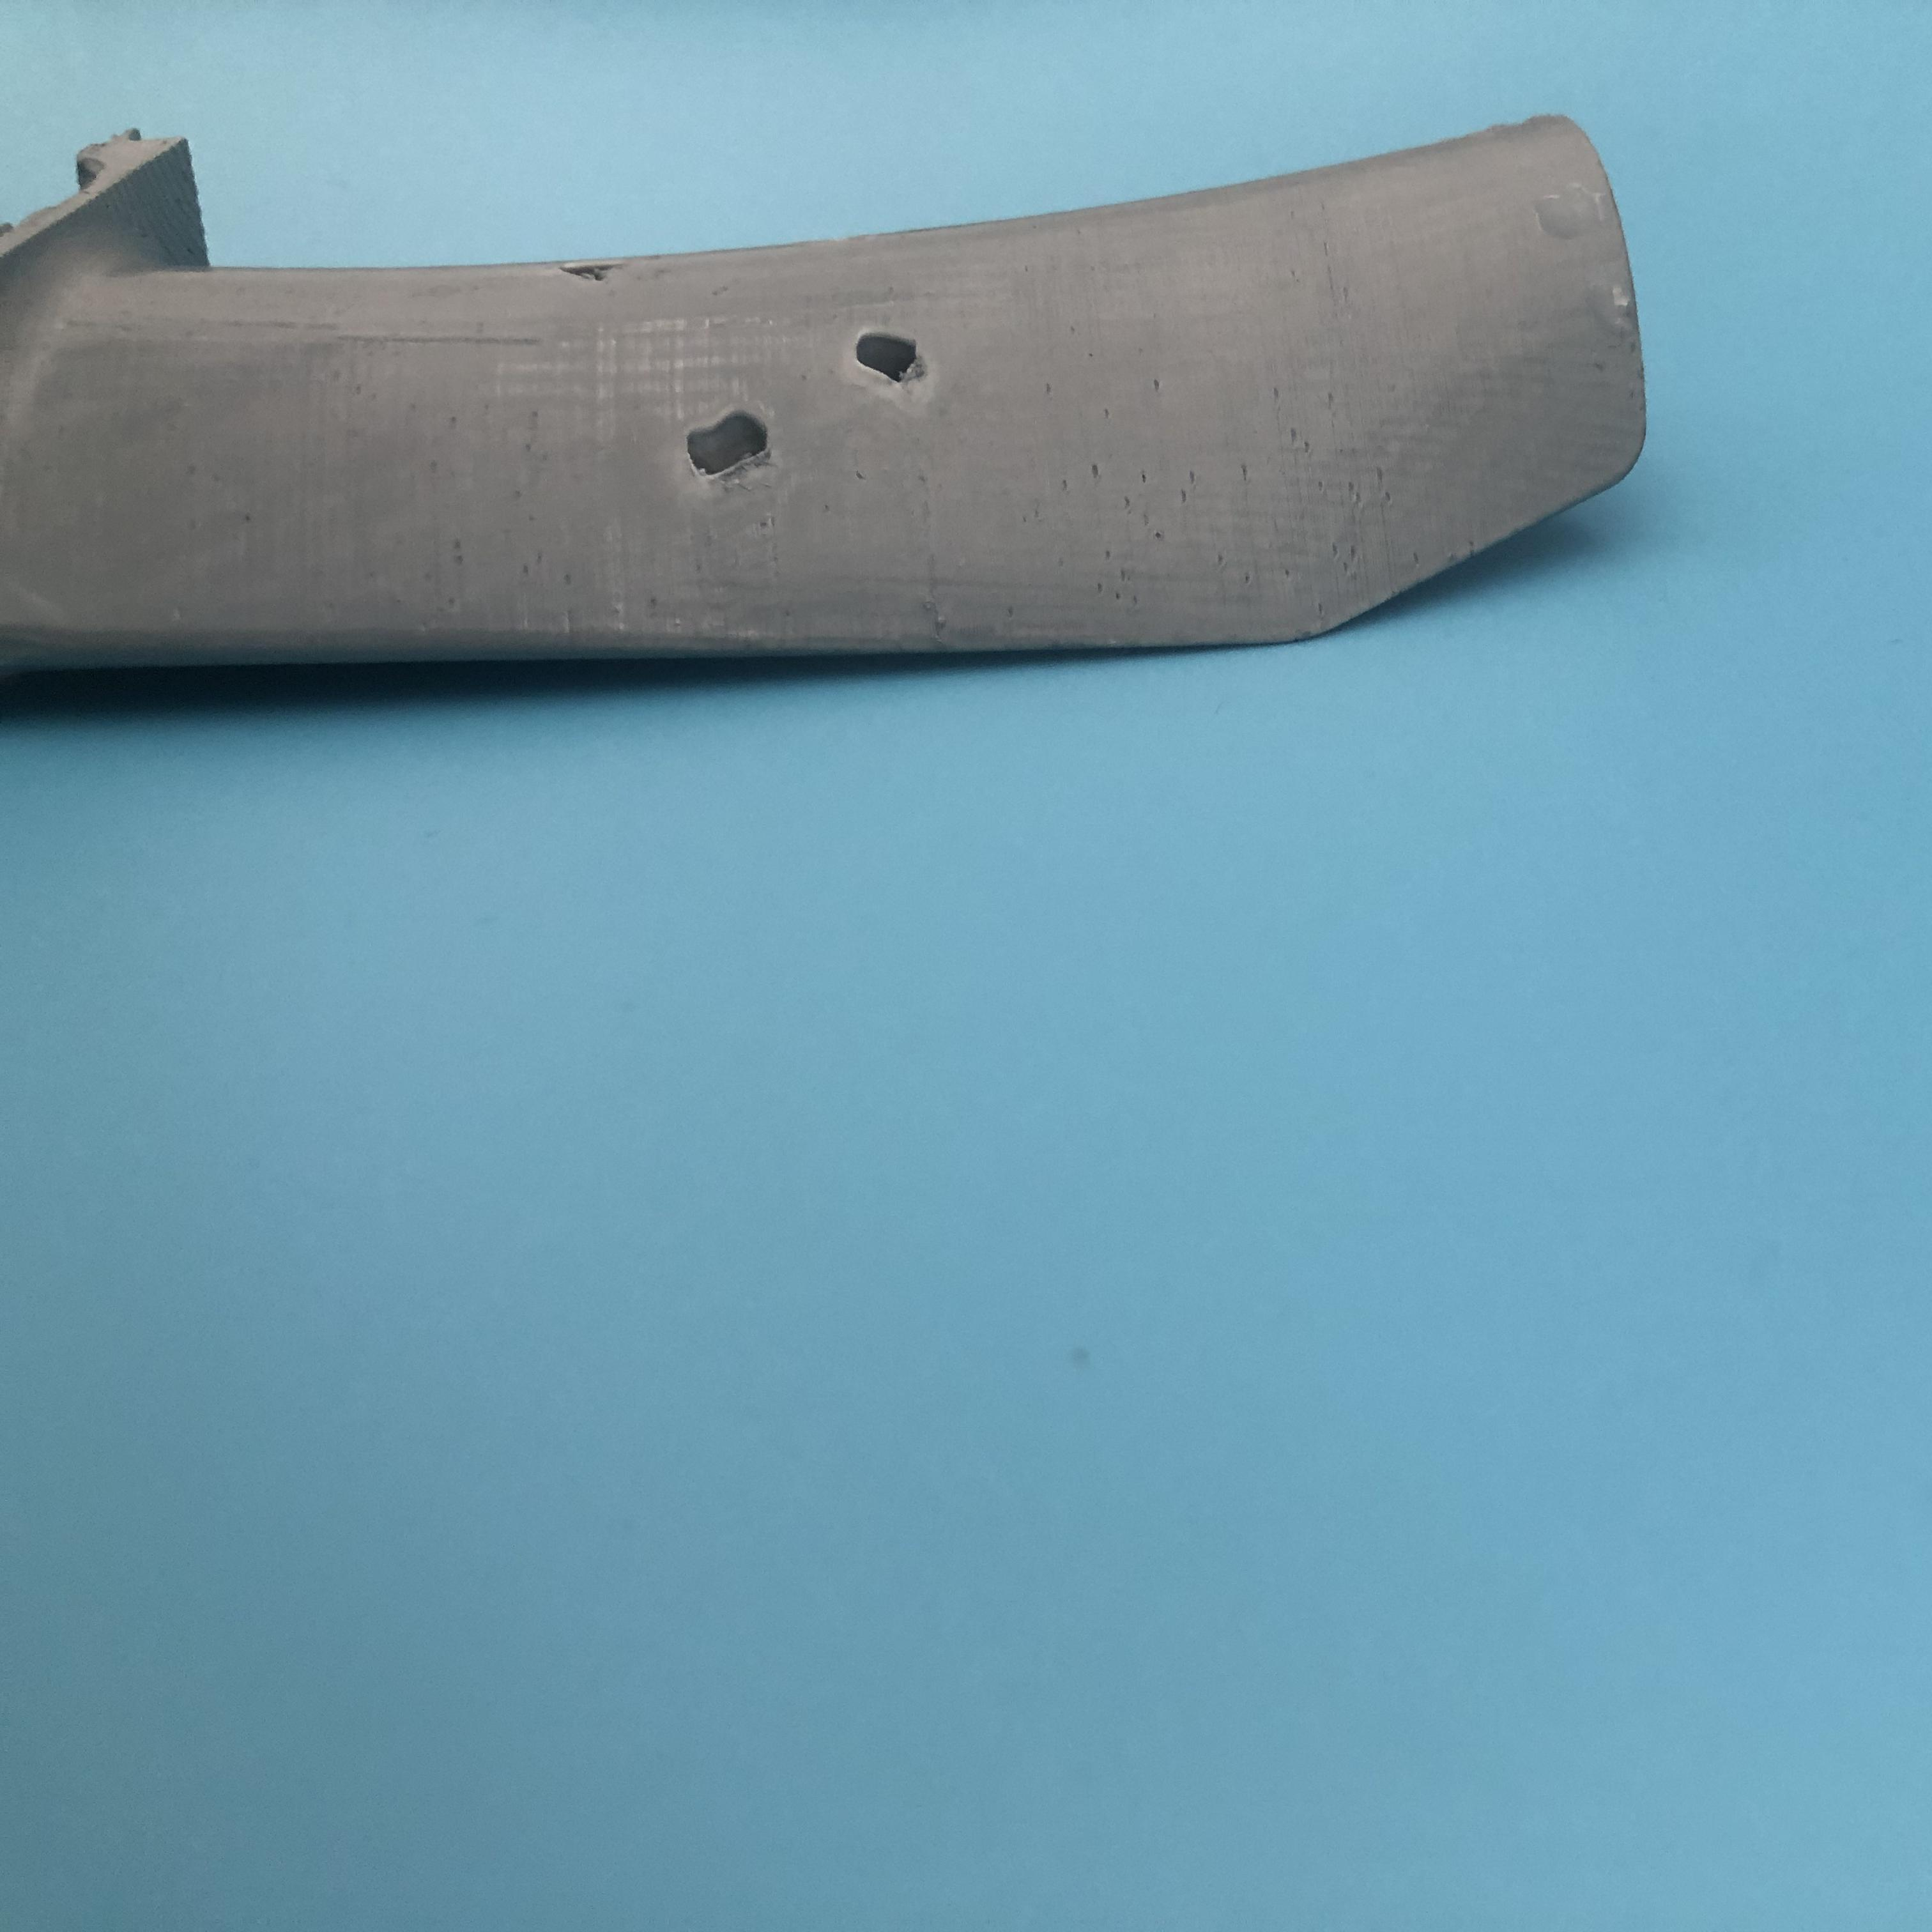breakdown: (695, 343, 950, 467), (563, 253, 628, 288)
